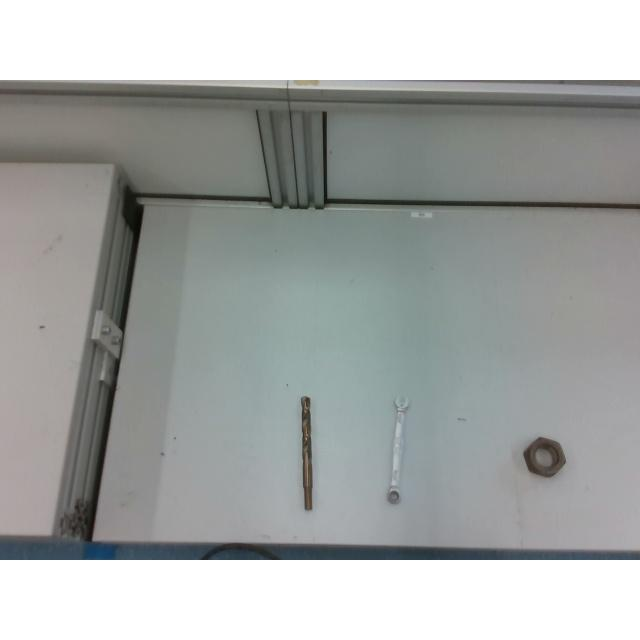Drill: (299, 394, 313, 510)
M30: (522, 434, 568, 478)
Wrench: (384, 396, 408, 504)
